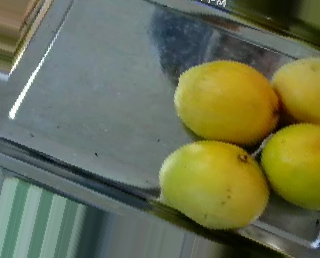Mango: (150, 136, 274, 232), (173, 58, 282, 146), (259, 120, 320, 212), (269, 52, 320, 120)
